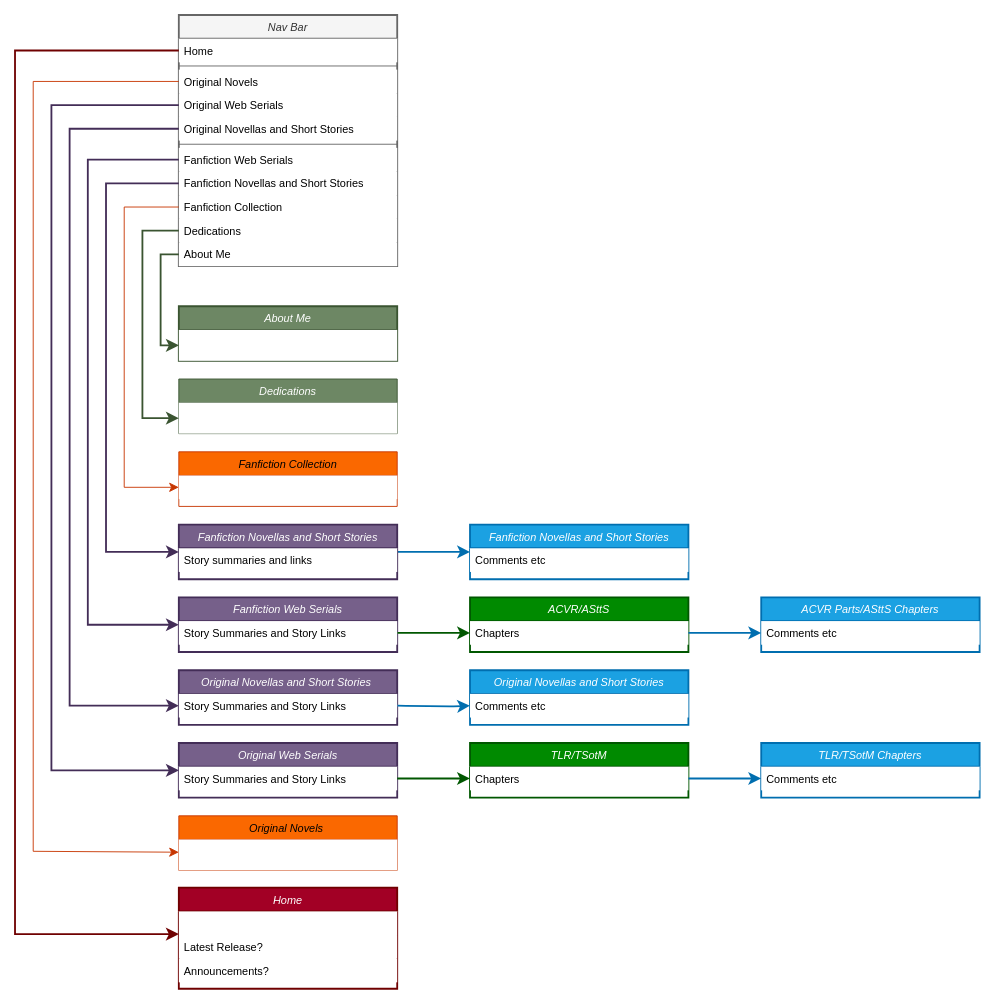
Image size: 995x1004. Some labels were removed from this diagram. The centre of each missing label's shape, as x and y in pixels:
"Fanfiction summaries and Epubs" goes at pixel 287 487.
"Features?" goes at pixel 287 923.
"Novel Summaries and Links" goes at pixel 287 854.
"Profile ramble and me links" goes at pixel 287 344.
"Sam/Editors/Ali/Patrons" goes at pixel 287 417.
